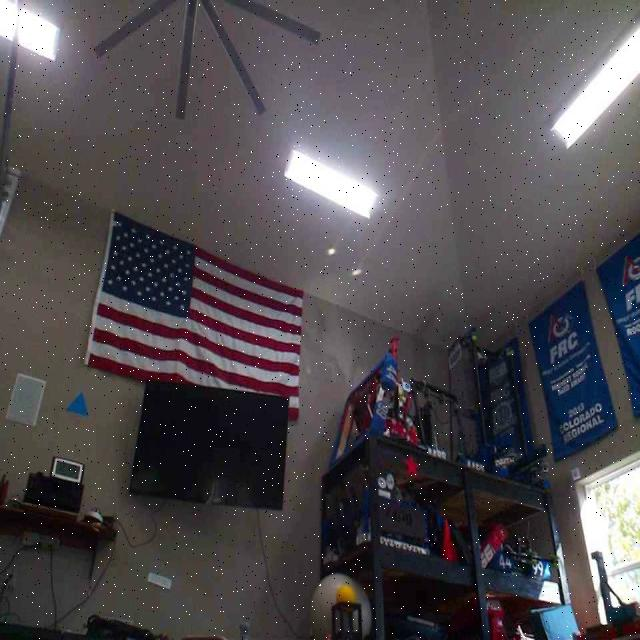star_red: (404, 454, 419, 476)
triangle_blue: (66, 391, 89, 418)
